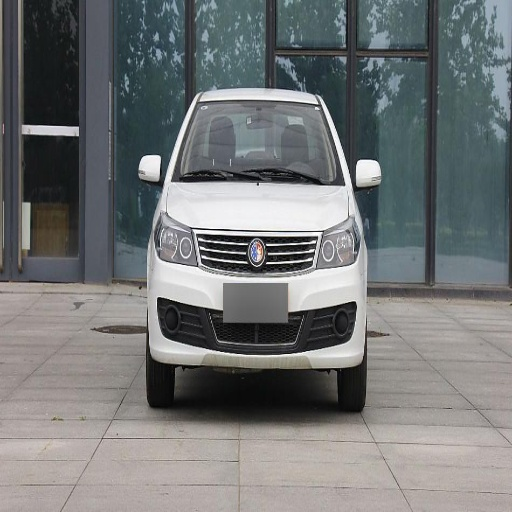front_bumper: (150, 228, 367, 368)
front_right_light: (154, 217, 194, 264)
hood: (166, 182, 350, 230)
